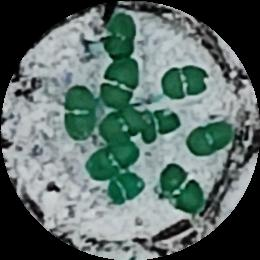Basil: (83, 138, 135, 181), (165, 165, 209, 212), (162, 61, 209, 102), (102, 63, 142, 108), (101, 11, 136, 57), (102, 108, 145, 144), (63, 89, 92, 142), (186, 122, 231, 156), (108, 168, 147, 206), (142, 110, 184, 143)
